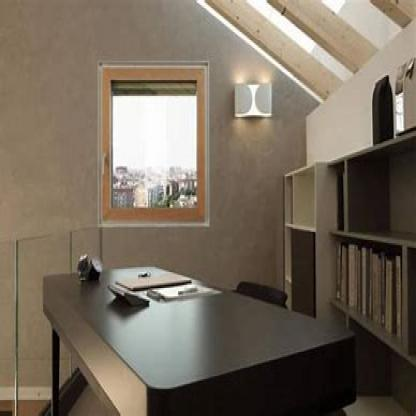Window: (99, 62, 210, 224)
